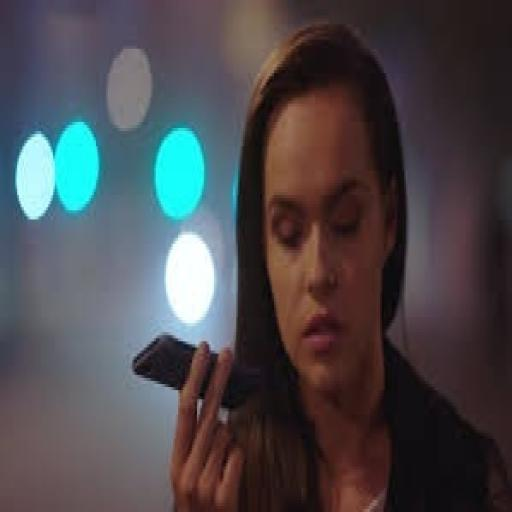calling: (166, 18, 509, 509)
